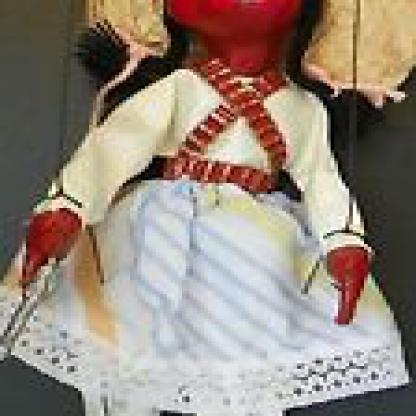gun: (0, 227, 75, 380)
